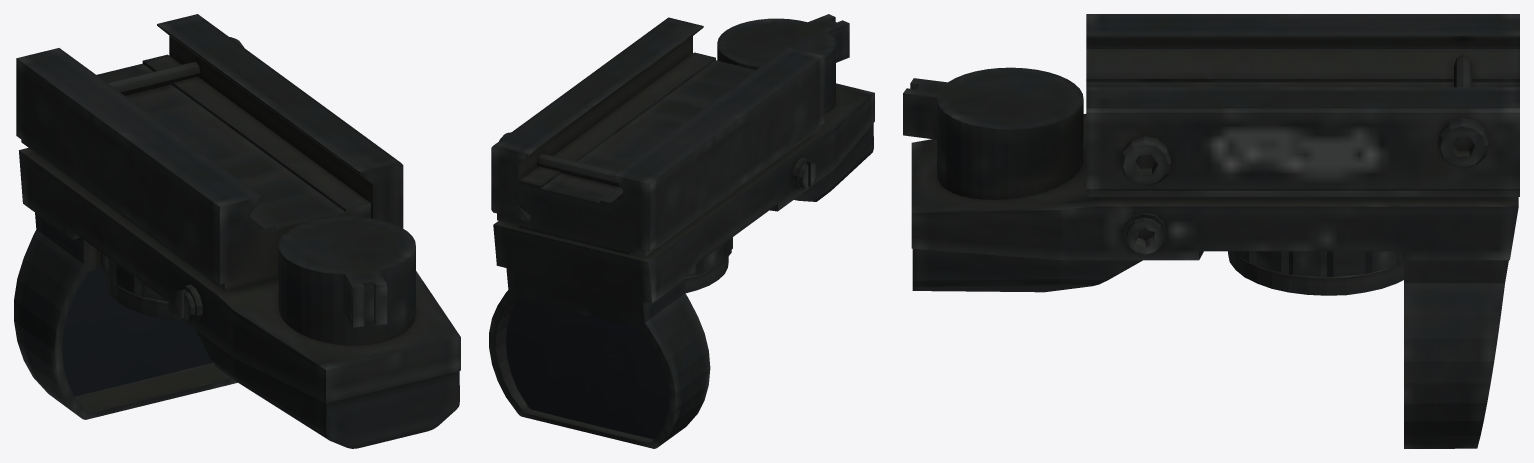
3 views of the same model, side by side, from view 1: azimuth 30°, elevation 25°; view 2: azimuth 150°, elevation 25°; view 3: azimuth 270°, elevation 25° (orthographic). The views are drawn at different scales.
Parts seen in each view (by area): view 1: TW_570fd721d2720bc5458b4596_mode2_PZ_Import; view 2: TW_570fd721d2720bc5458b4596_mode2_PZ_Import; view 3: TW_570fd721d2720bc5458b4596_mode2_PZ_Import.
Part boxes in pixels (left/top/right/bottom): TW_570fd721d2720bc5458b4596_mode2_PZ_Import: left=14, top=14, right=460, bottom=448; TW_570fd721d2720bc5458b4596_mode2_PZ_Import: left=489, top=14, right=874, bottom=448; TW_570fd721d2720bc5458b4596_mode2_PZ_Import: left=903, top=14, right=1519, bottom=448.
Size of the model in its own units: 0.0216 by 0.0502 by 0.0312.
Materials: 1 (1 with a texture image).
